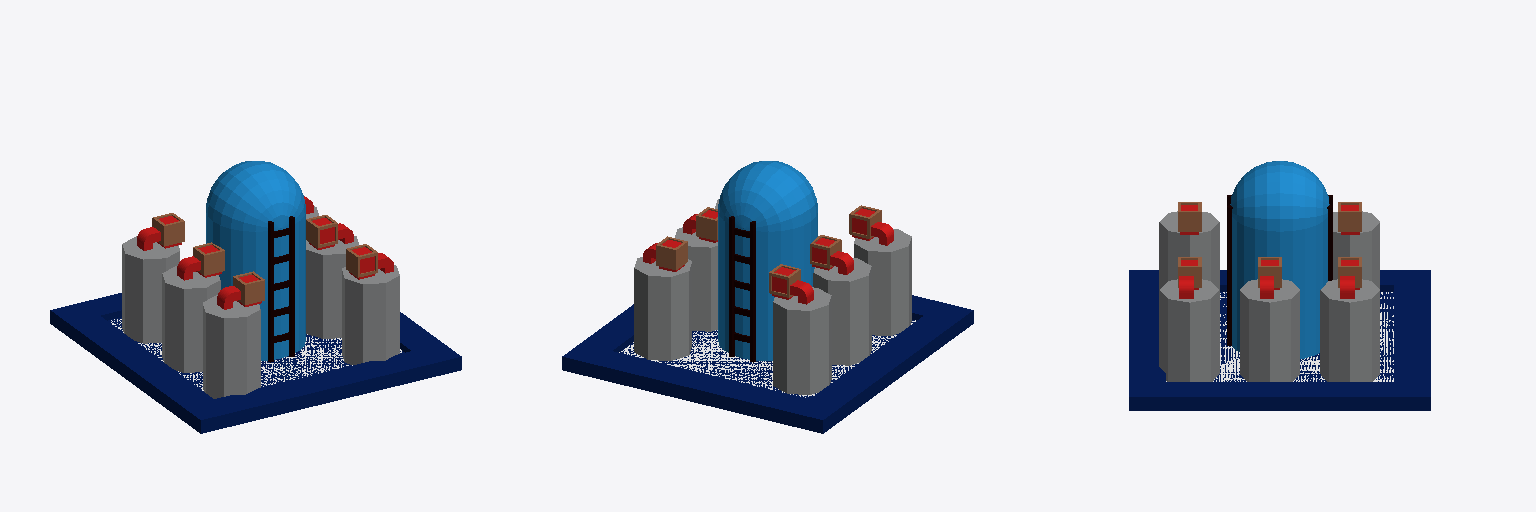
File: Refinery.obj
3 renders of one model, left to right at view 1: azimuth 30°, elevation 25°; view 2: azimuth 150°, elevation 25°; view 3: azimuth 270°, elevation 25°, orthographic.
Bounding box in the file's own units: 3 × 2 × 3.